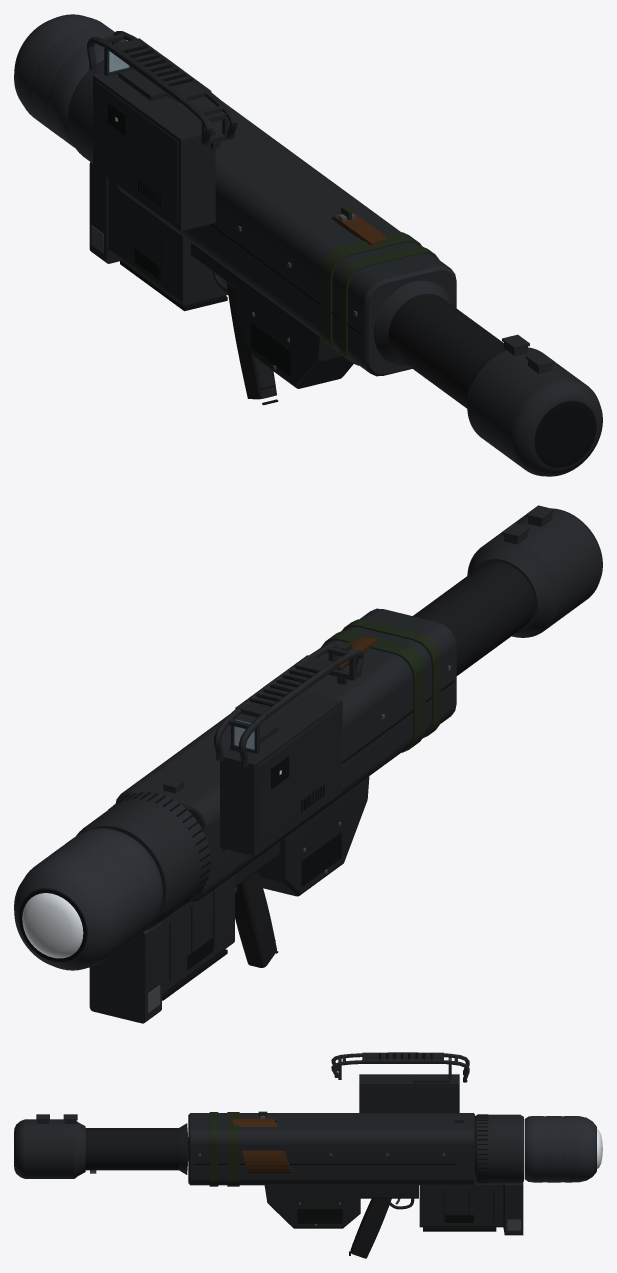
The model's file is fhj18.glb.
3 renders of one model, top to bottom at view 1: azimuth 30°, elevation 25°; view 2: azimuth 150°, elevation 25°; view 3: azimuth 270°, elevation 25°, orthographic. The views are drawn at different scales.
Parts seen in each view (by area): view 1: FJ_Body, FJ_Mag; view 2: FJ_Body, FJ_Mag; view 3: FJ_Body, FJ_Mag.
Part boxes in pixels (bbox=[...]): FJ_Body: bbox=[14, 14, 602, 476]; FJ_Mag: bbox=[89, 162, 228, 311]; FJ_Body: bbox=[14, 505, 602, 970]; FJ_Mag: bbox=[89, 875, 234, 1023]; FJ_Body: bbox=[14, 1052, 602, 1258]; FJ_Mag: bbox=[419, 1182, 523, 1235].
Size of the model in its own units: 0.2175 by 0.4952 by 1.44.
